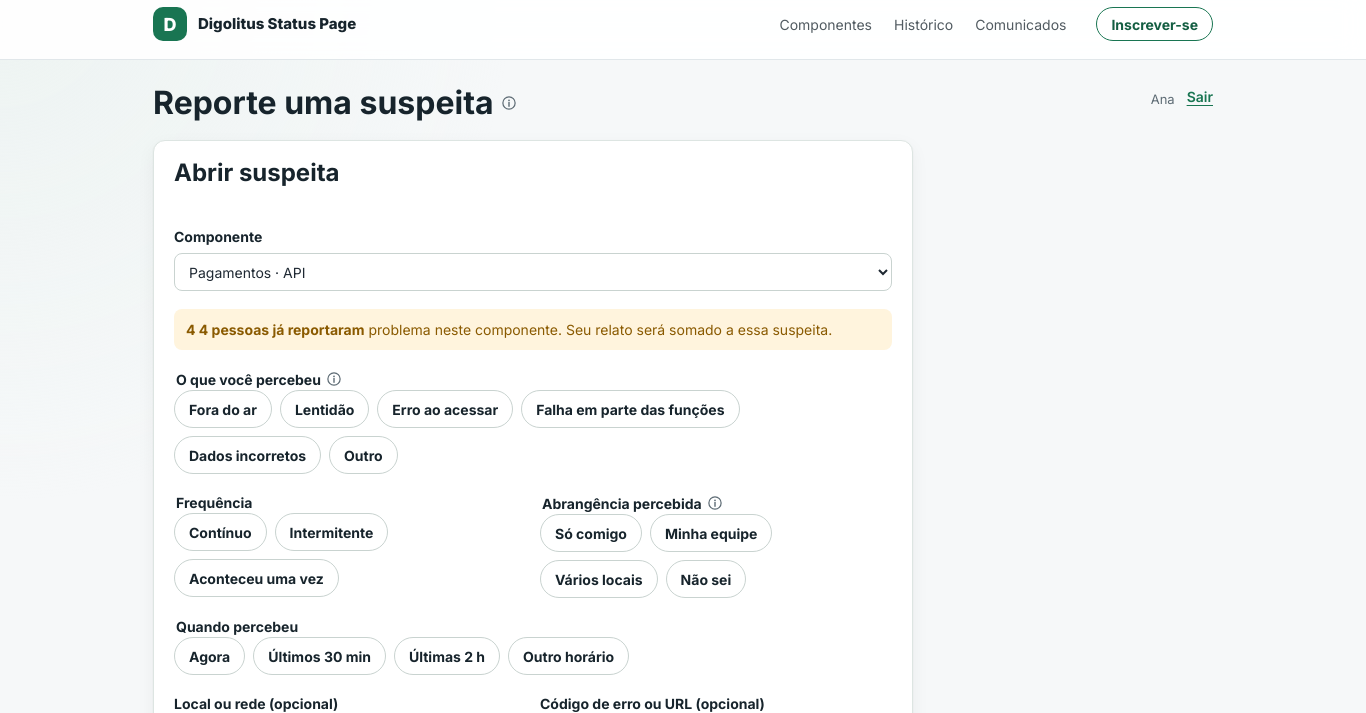
Reportar suspeita › sends the report with the closed choices
Expected: the element that starts with "4 pessoas já reportaram" is shown, [199, 321, 364, 338]
Click the radio button labelled "Fora do ar" at (223, 409), box [174, 390, 272, 428]
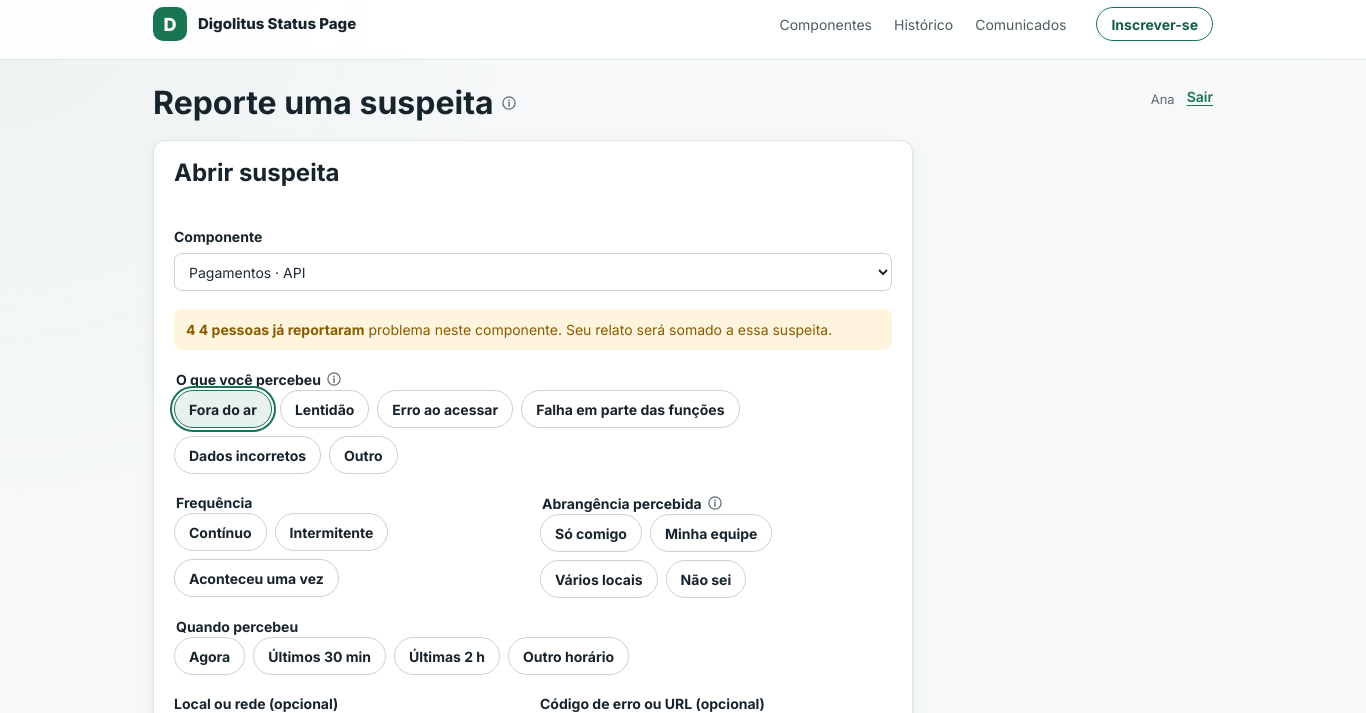
Click the radio button labelled "Contínuo" at (220, 532), box [174, 513, 267, 551]
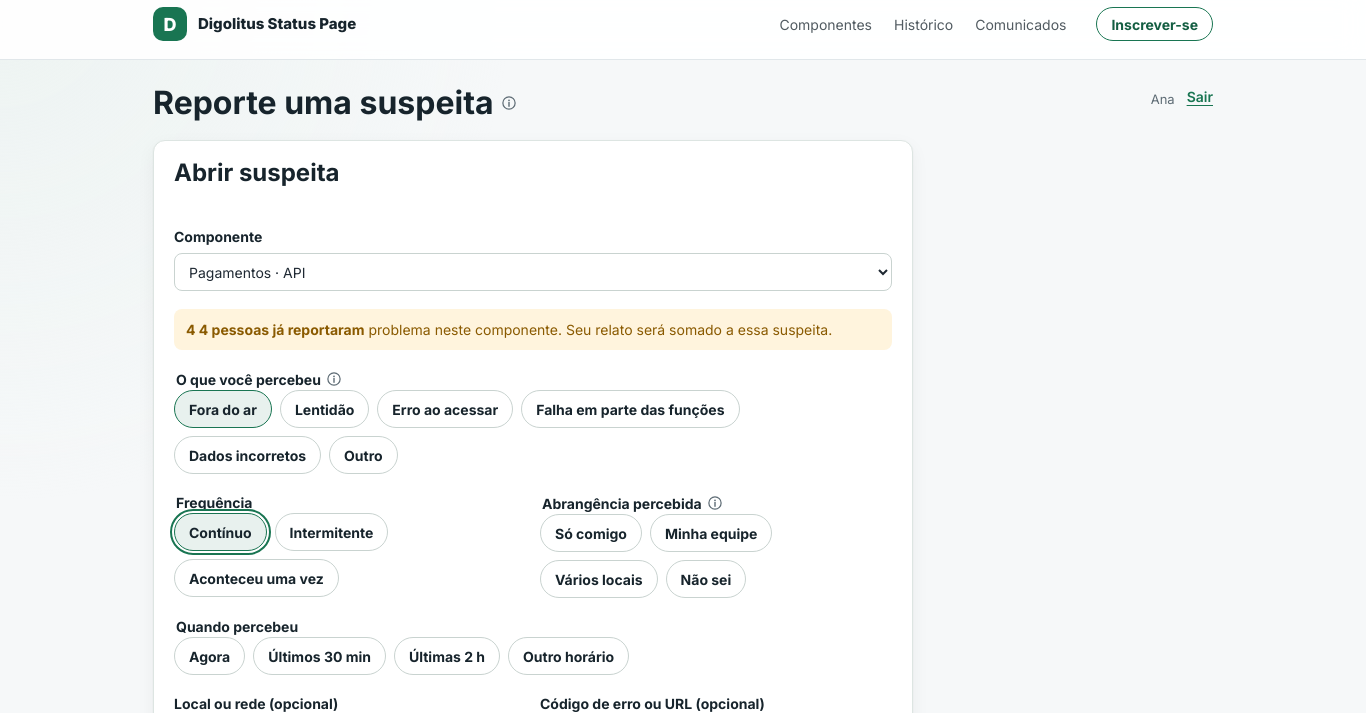
Click the radio button labelled "Vários locais" at (599, 579), box [540, 560, 658, 598]
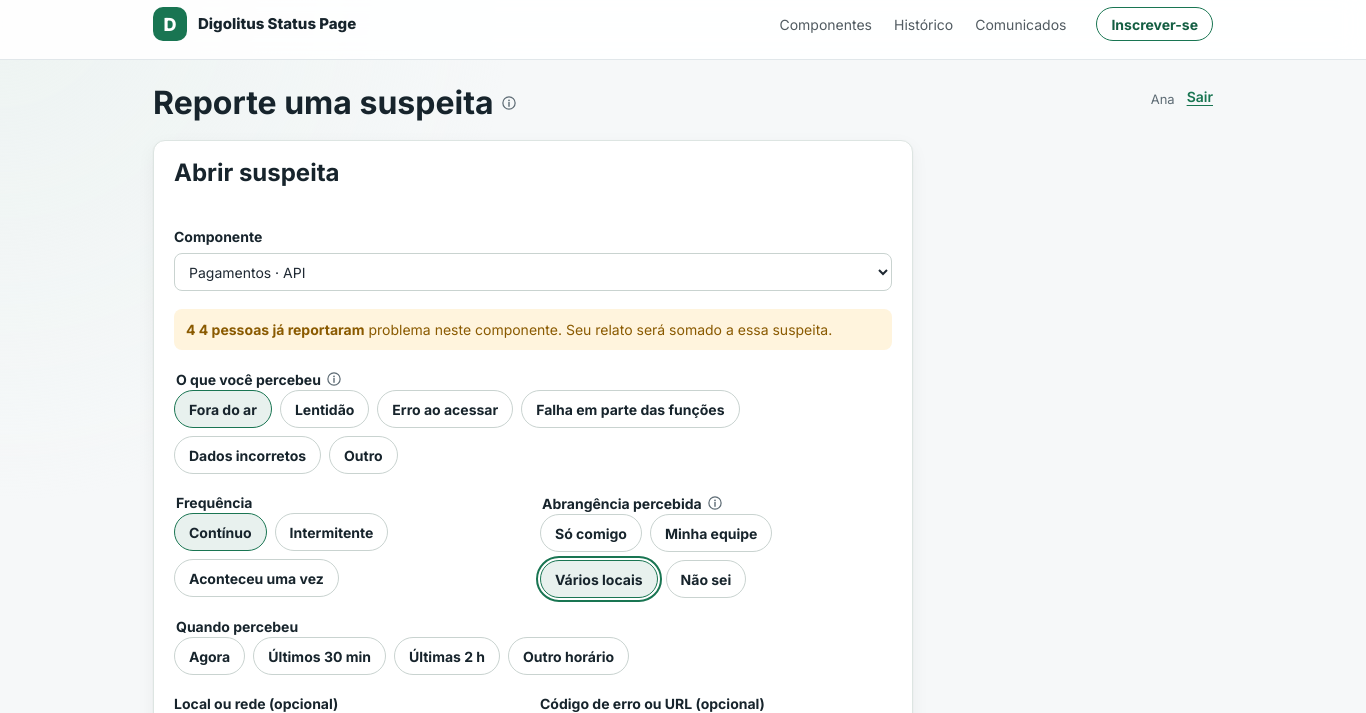
Click the radio button labelled "Agora" at (210, 656), box [174, 637, 245, 675]
(page scrolled)
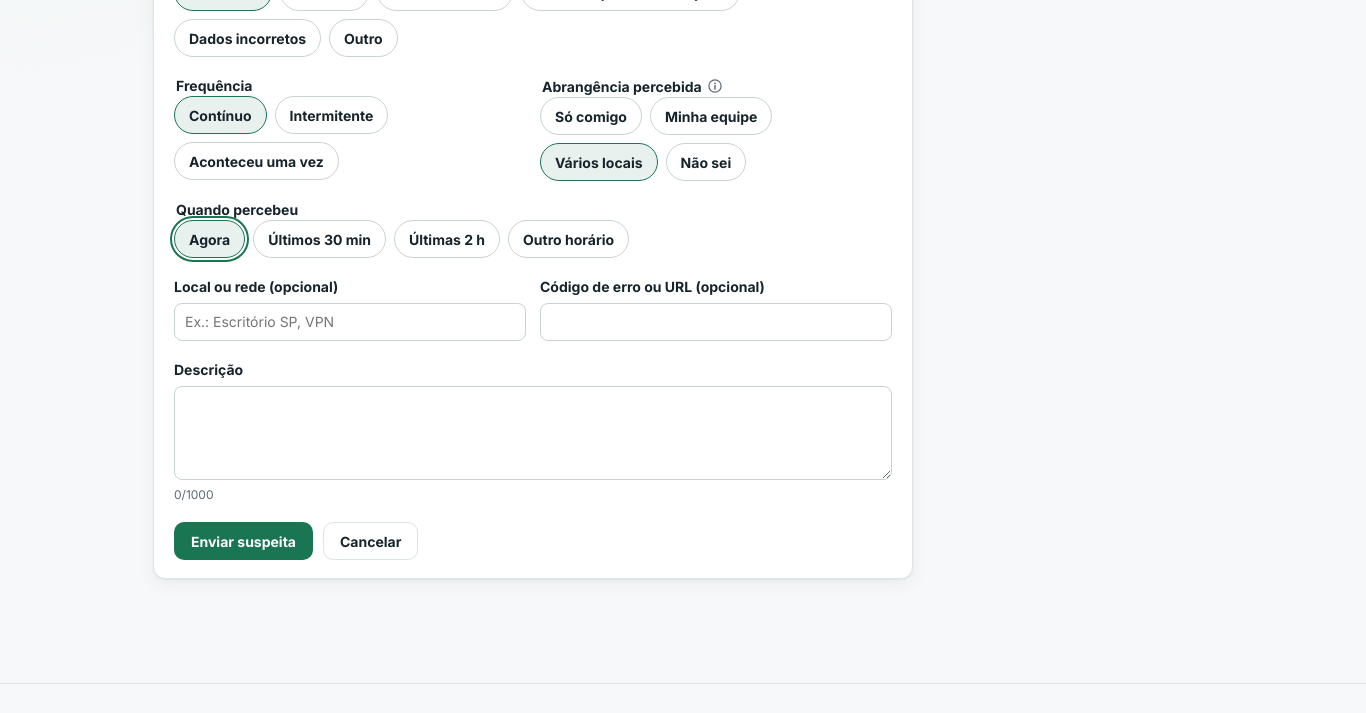
Type "Tela de pagamento não carrega" into the text box labelled "Descrição" at (533, 433), box [174, 386, 892, 480]
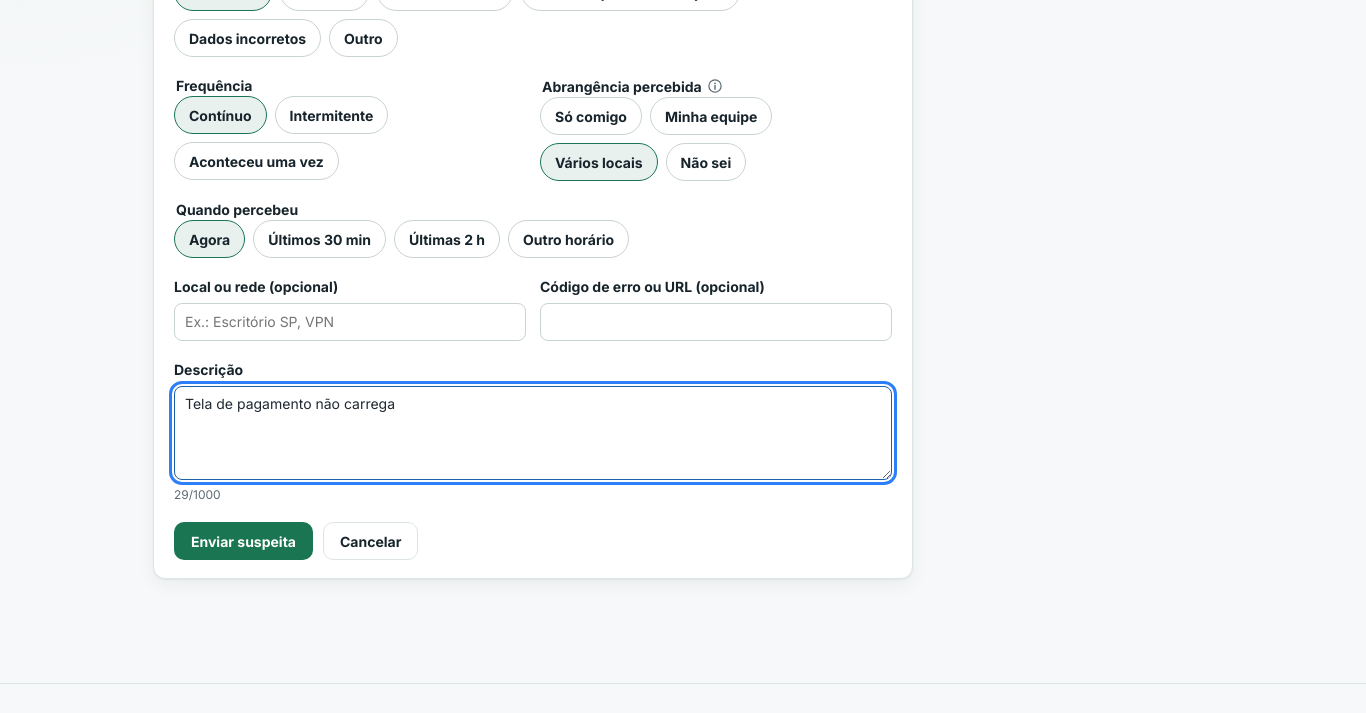
Click the button "Enviar suspeita" at (244, 542), box [174, 522, 313, 560]
(page scrolled)
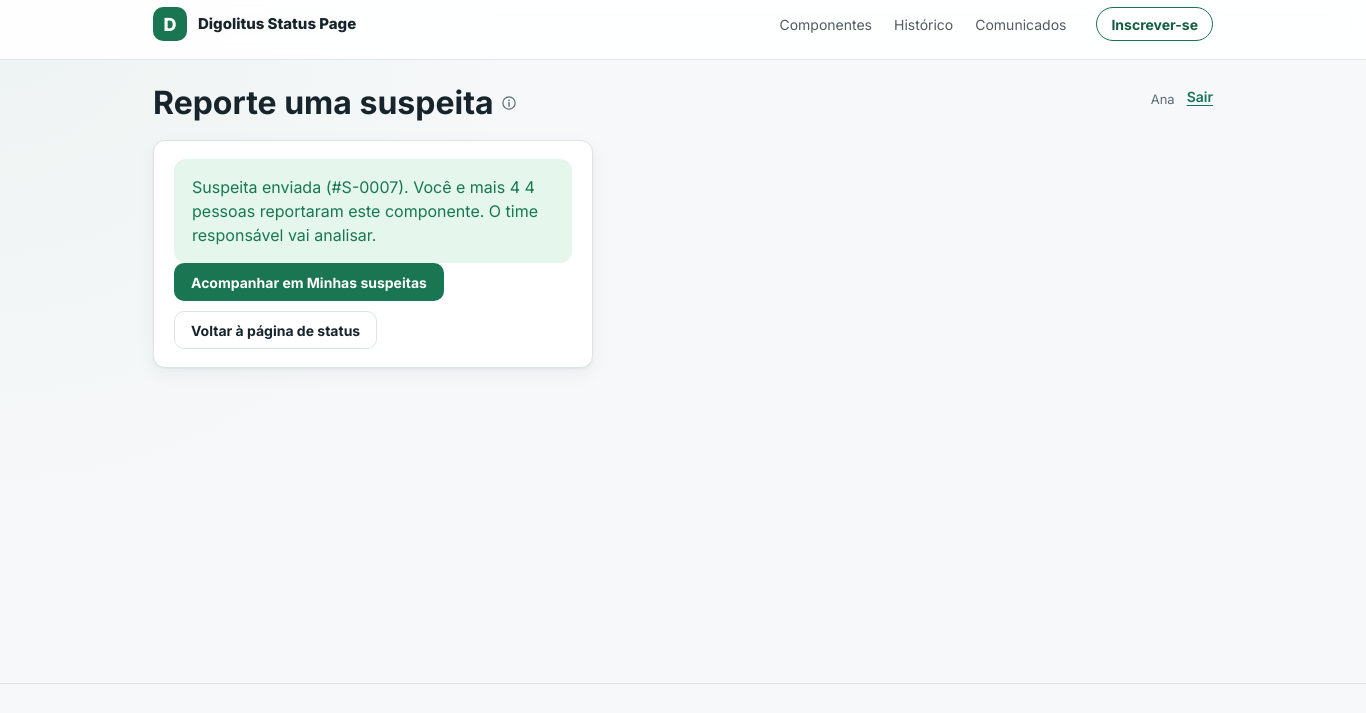
Result: the text "Suspeita enviada" is shown at [192, 177, 332, 197]
